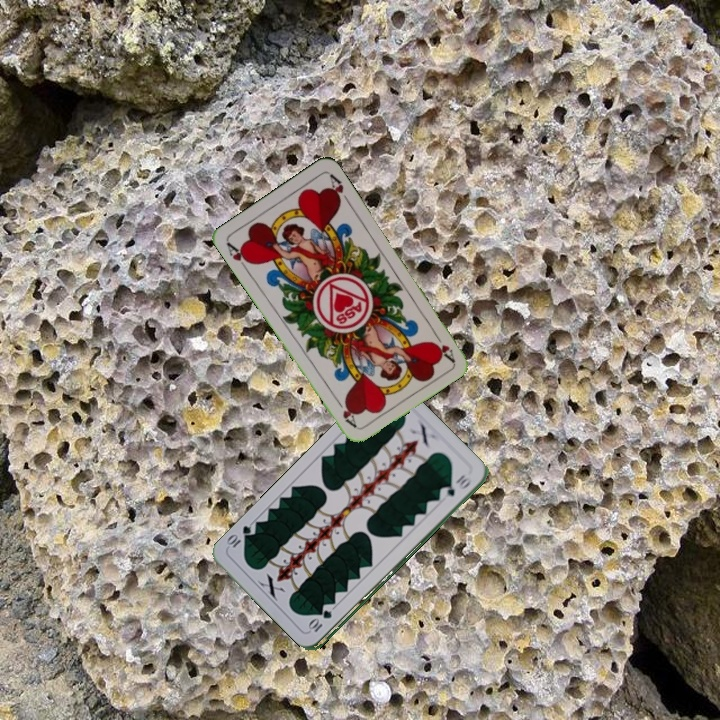G10: (306, 607, 335, 635)
HA: (222, 239, 255, 274), (429, 327, 457, 364)
